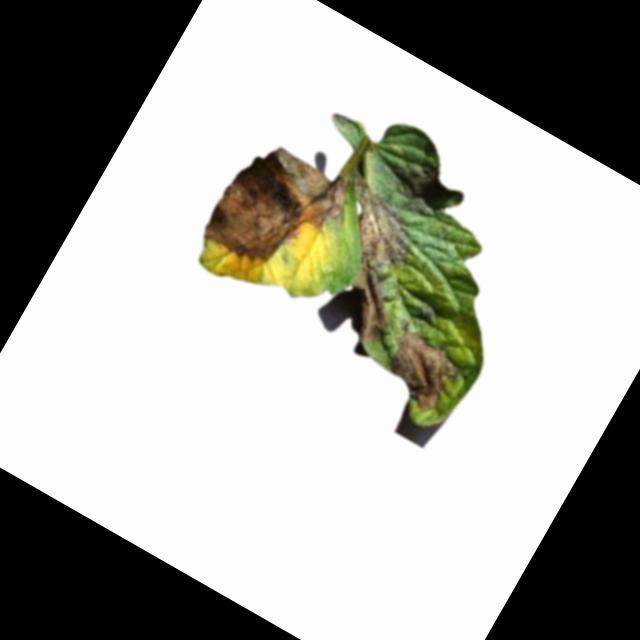Late_blight: (285, 170, 449, 350), (195, 127, 361, 294), (368, 322, 466, 418), (387, 156, 455, 220)
